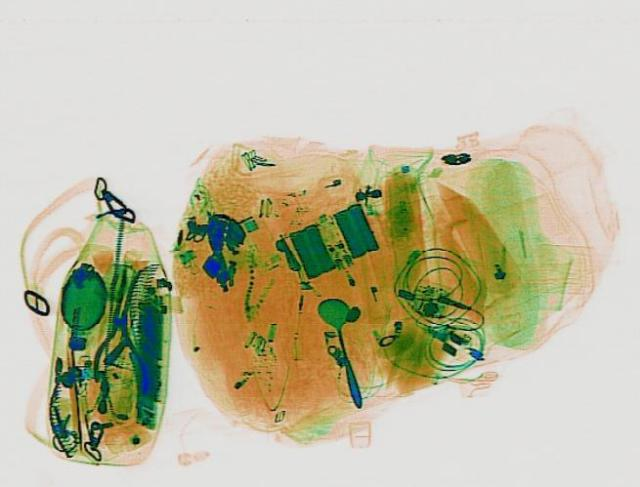Pliers: (87, 265, 157, 393)
